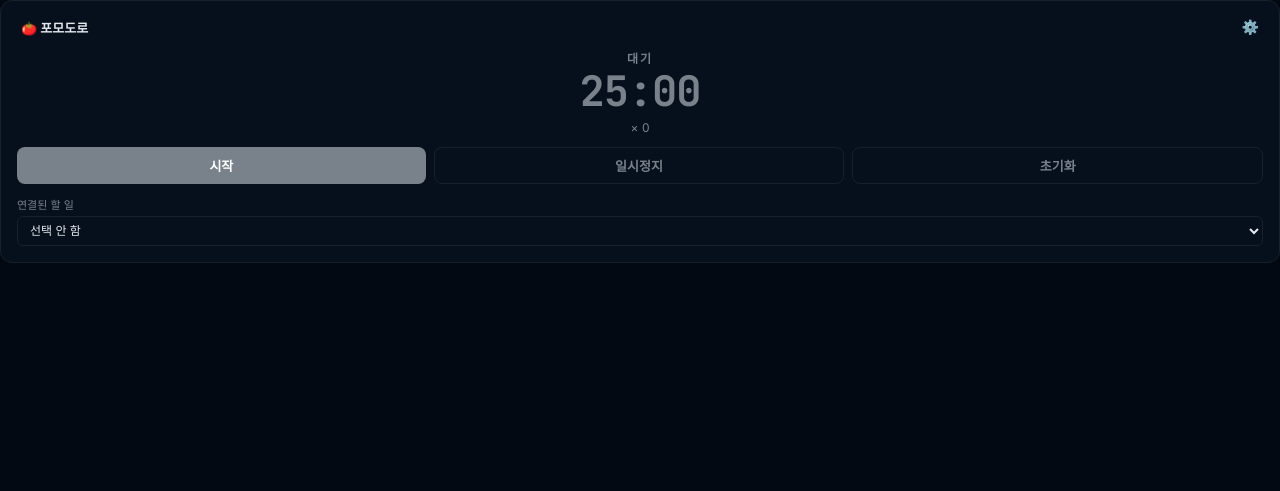
Test: PomodoroWidget › 설정 토글 버튼 클릭 시 설정 폼이 표시되어야 한다
Click the button with test id "settings-toggle-btn".
click(1250, 27)  # box [1238,17,1263,37]
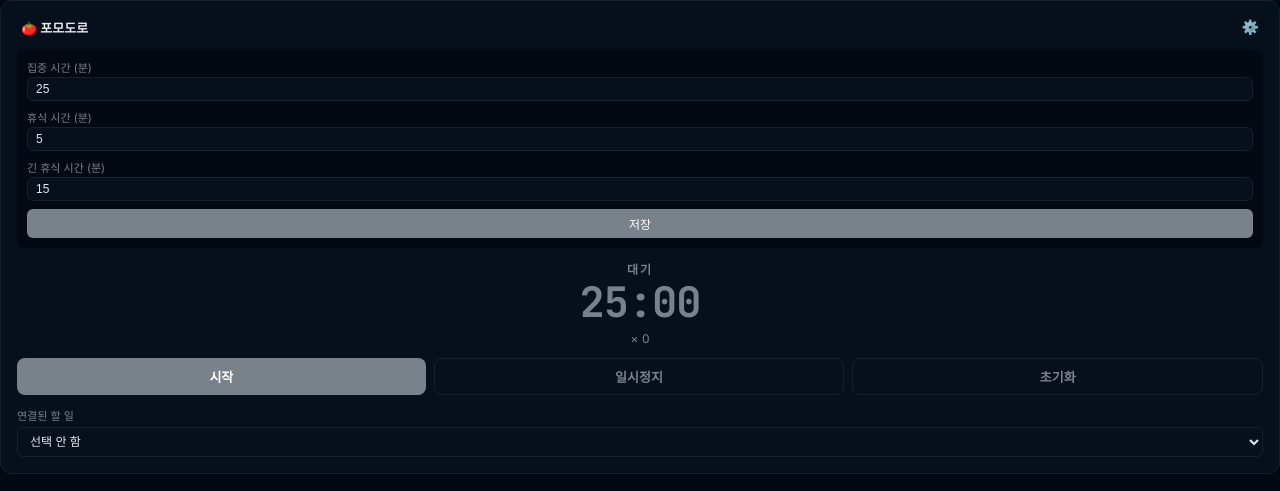
Expected: the element with test id "settings-form" is shown, [17,49,1263,248]
